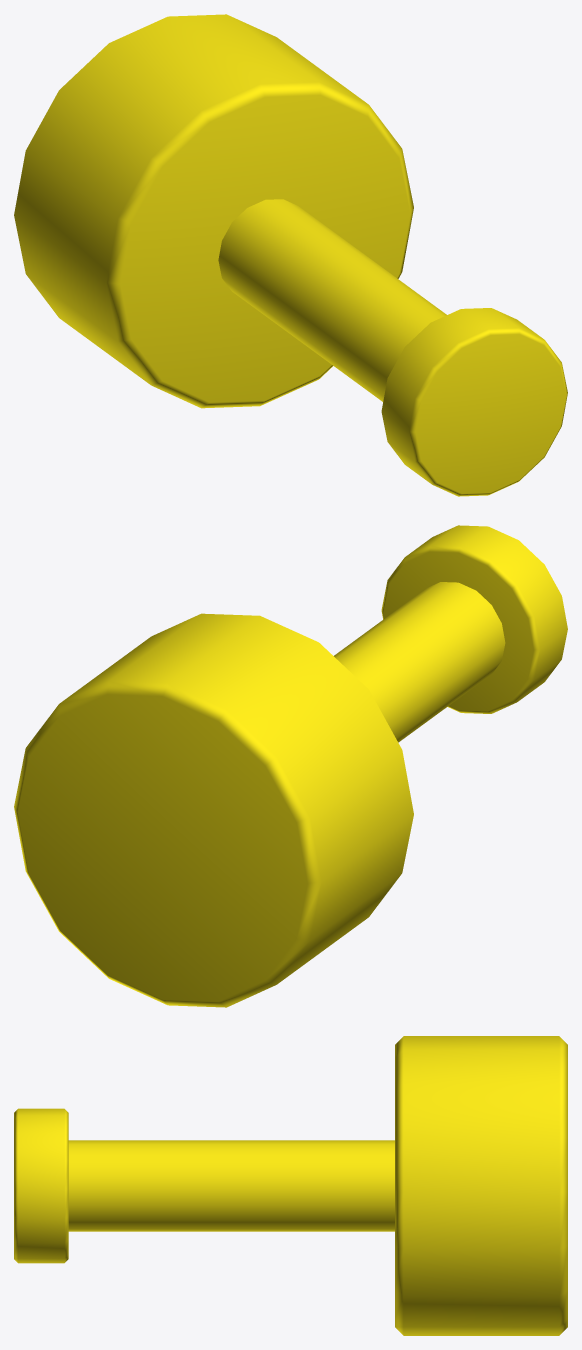
The model's file is Farm_15_Shelf_for_plant_1.glb.
3 renders of one model, top to bottom at view 1: azimuth 30°, elevation 25°; view 2: azimuth 150°, elevation 25°; view 3: azimuth 270°, elevation 25°, orthographic. The views are drawn at different scales.
Parts seen in each view (by area): view 1: Farm_15_Shelf_for_plant_1; view 2: Farm_15_Shelf_for_plant_1; view 3: Farm_15_Shelf_for_plant_1.
Boxes of the visible parts, <box> form: Farm_15_Shelf_for_plant_1: <box>14,14,567,496</box>; Farm_15_Shelf_for_plant_1: <box>14,525,567,1007</box>; Farm_15_Shelf_for_plant_1: <box>14,1036,567,1335</box>.
Bounding box in the file's own units: 0.2038 × 0.2038 × 0.3763.
1 material, 1 textured.
